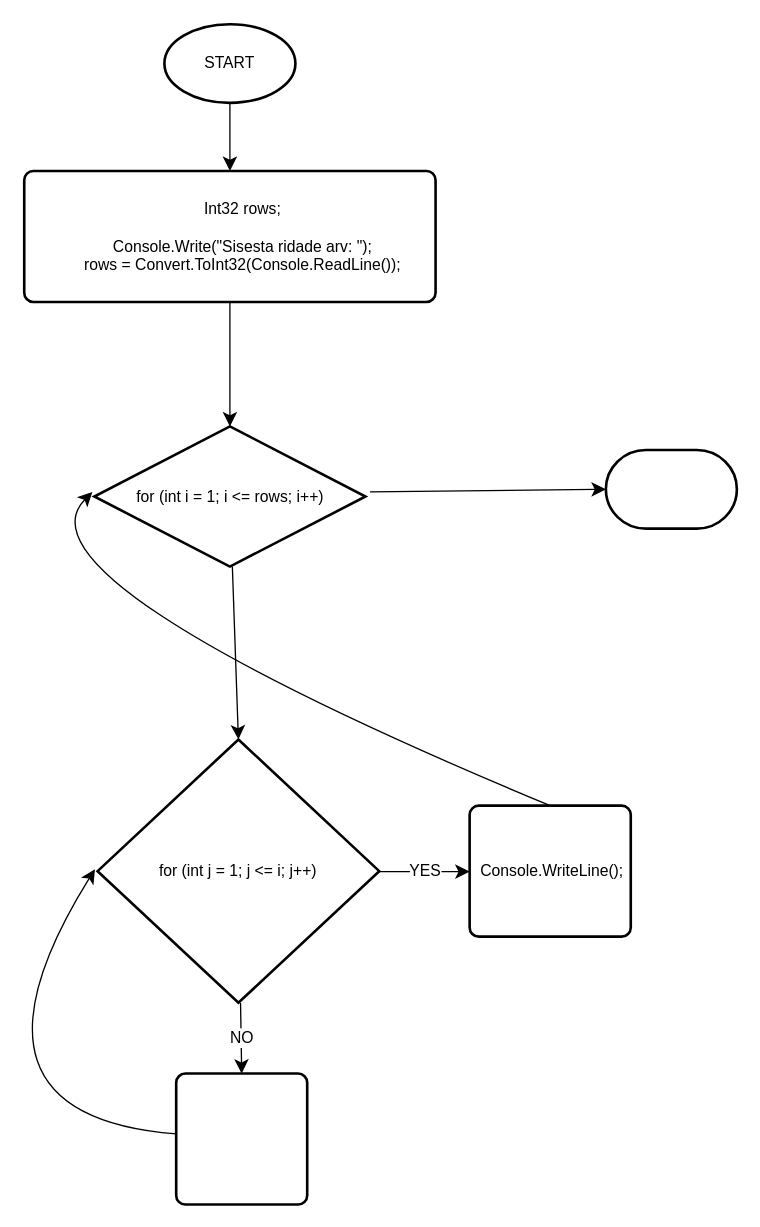
Image size: 760x1227. Some labels were removed from this diagram. Here are the shapes that lost their labels. From the top down, the centre of each, then its label:
At (x=671, y=488): "END".
At (x=241, y=1138): "Console.Write(i);".
